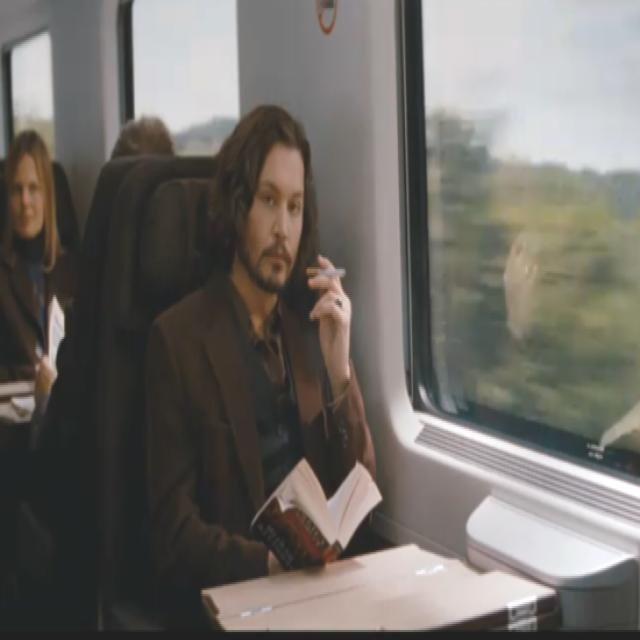cigarette: (304, 266, 346, 278)
